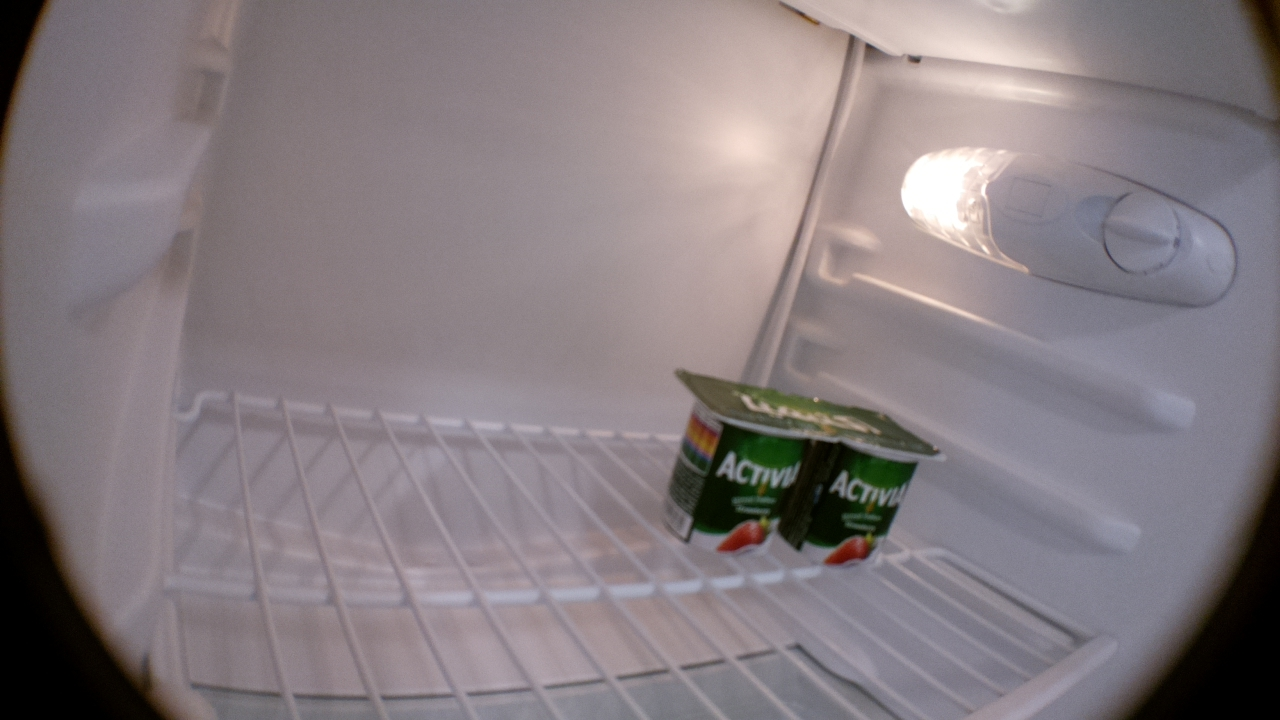yoghurt: (659, 368, 834, 558), (779, 392, 948, 569)
